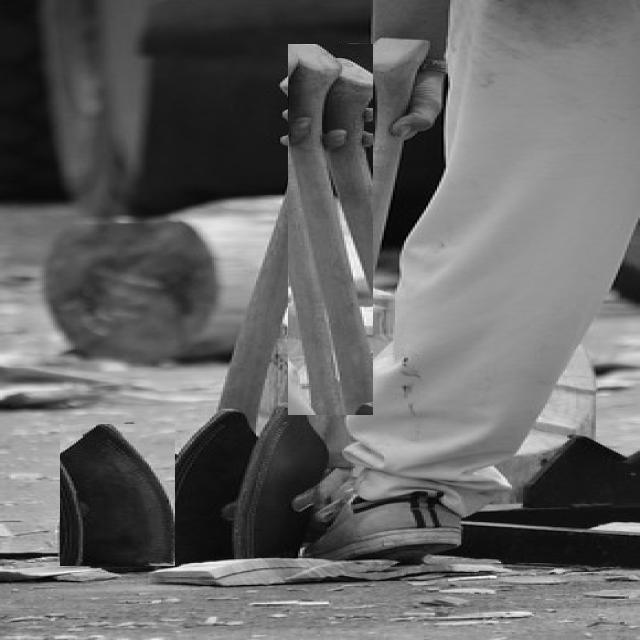Axe: (234, 39, 420, 558), (212, 60, 338, 429), (289, 45, 373, 415), (152, 410, 256, 568), (60, 424, 175, 566)
